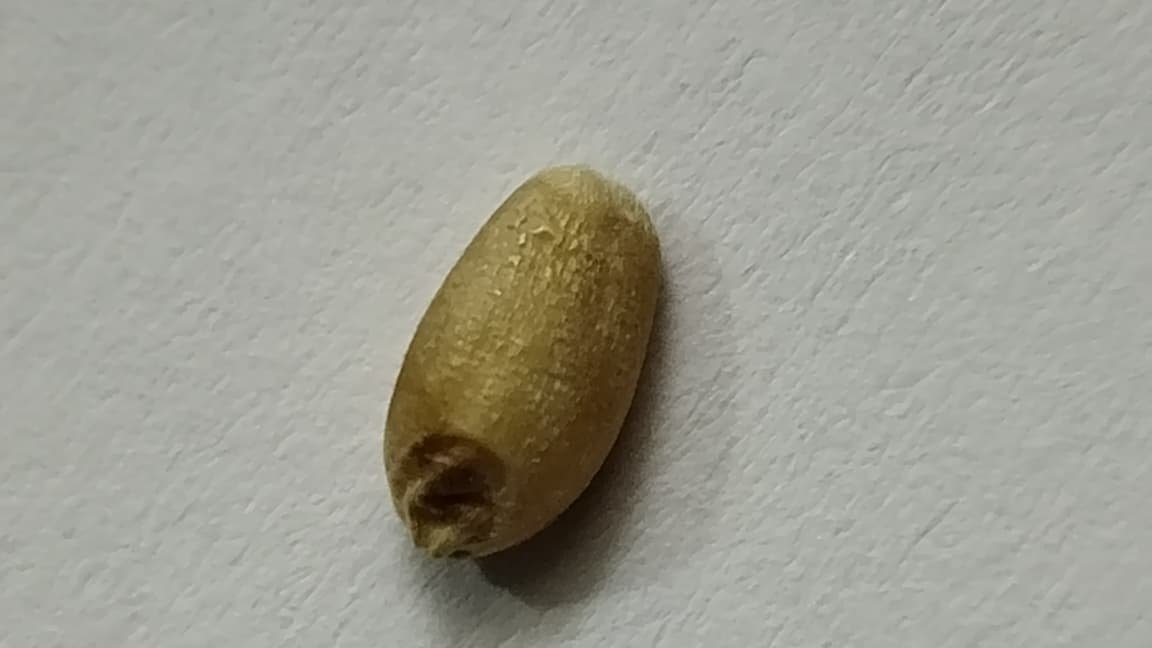healthy: (384, 165, 660, 555)
